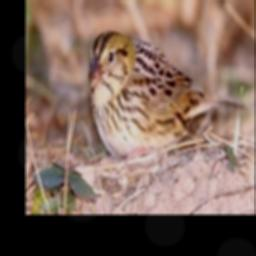Sparrow: (87, 27, 246, 164)
